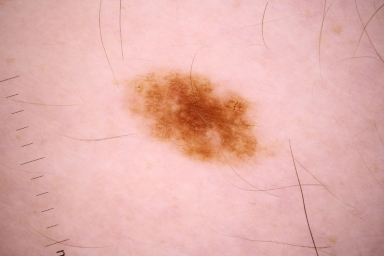melanoma: (125, 70, 258, 165)
